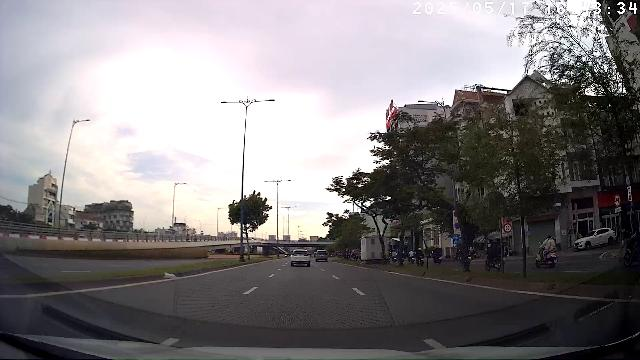127-toc-do-toi-da-50: (503, 223, 512, 233)
